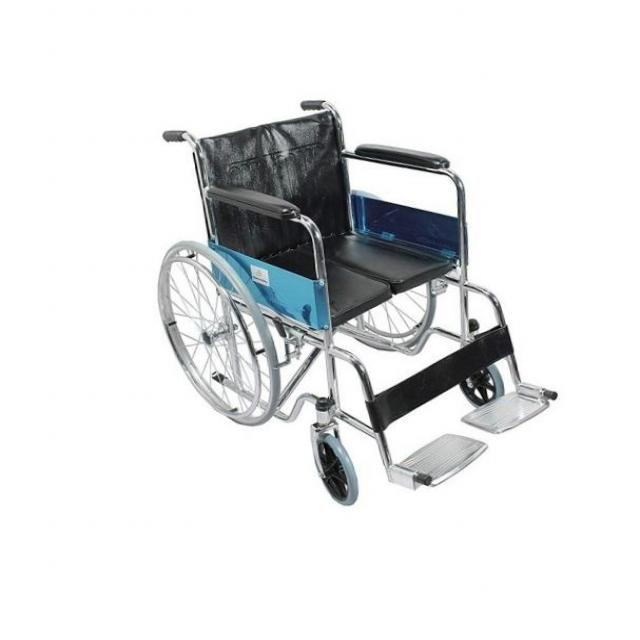wheelchair: (140, 64, 579, 524)
